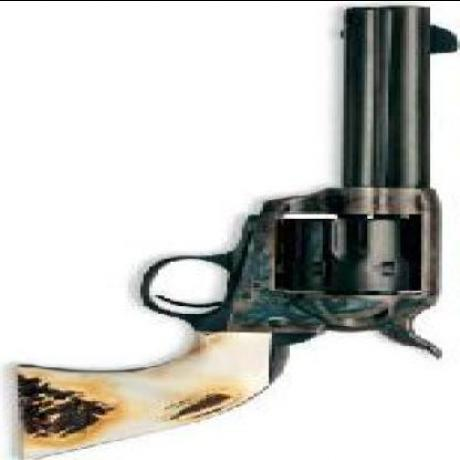weapon: (15, 4, 449, 458)
